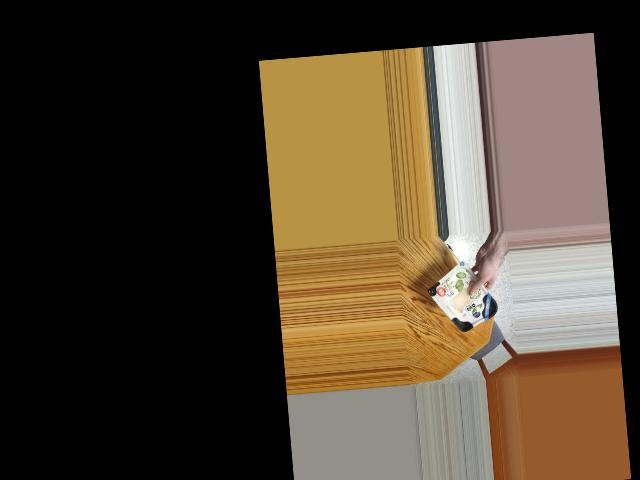cheese: (430, 269, 503, 331)
